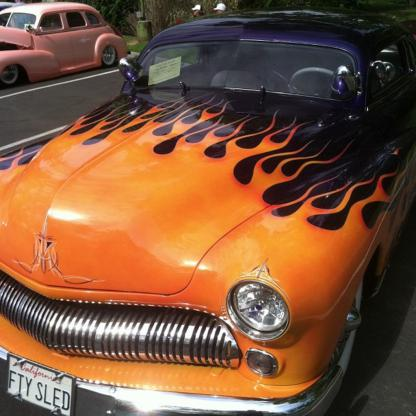Car: (0, 8, 415, 415), (0, 4, 131, 84)
